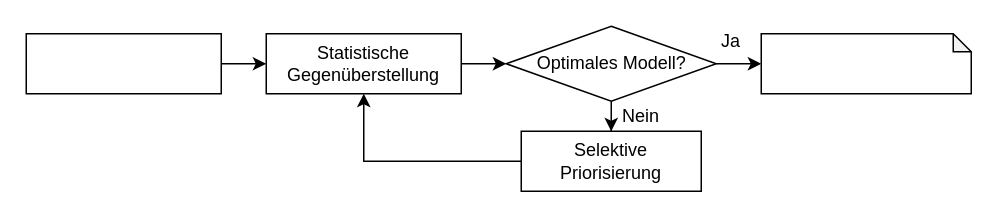
The diagram is 998 pixels wide and 218 high, and some of its shapes have lost their labels. The centre of each missing label's shape, as x and y in pixels:
"Ressourcenparameter" belongs at [123,63].
"Selektiv Pareto-Optimales Modell" belongs at [865,63].
